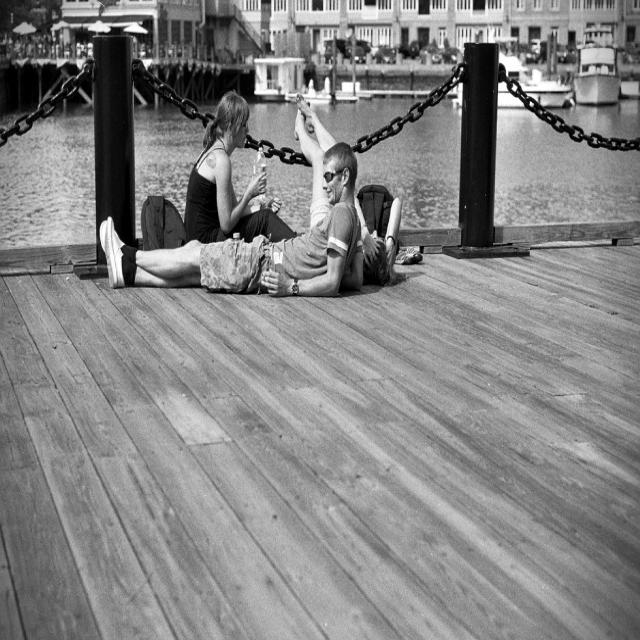human: (99, 135, 367, 287), (291, 84, 427, 291), (171, 87, 301, 256)
loitering: (97, 136, 371, 296), (286, 88, 430, 290), (169, 87, 303, 253)
